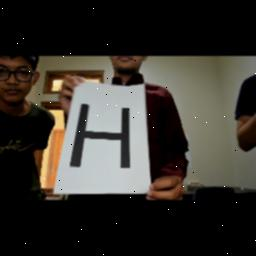h: (68, 102, 140, 174)
